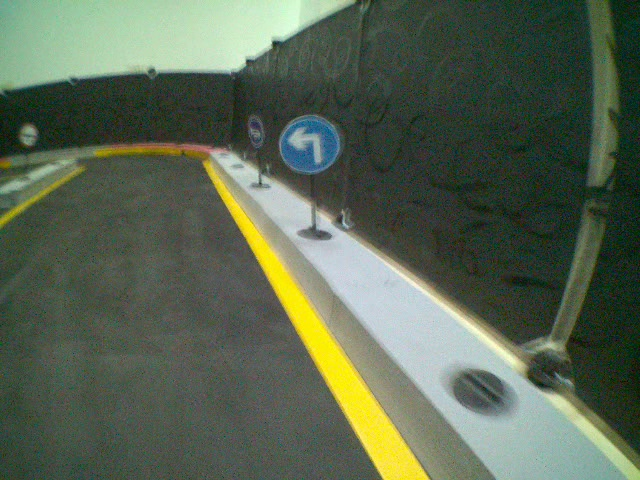Check: (18, 121, 38, 146)
horn: (245, 112, 264, 149)
turn: (277, 113, 342, 175)
